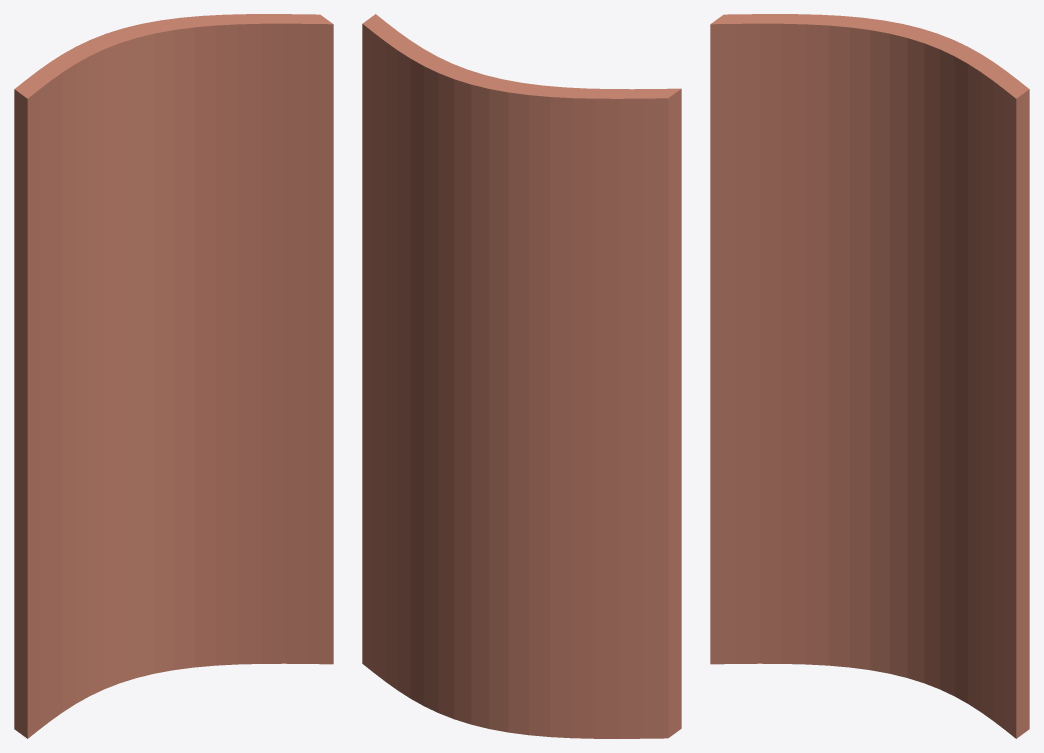
File: moench-nonne.glb
The picture shows the model from 3 angles, left to right: view 1: azimuth 30°, elevation 25°; view 2: azimuth 150°, elevation 25°; view 3: azimuth 330°, elevation 25°; orthographic projection.
Parts seen in each view (by area): view 1: world; view 2: world; view 3: world.
Part boxes in pixels (x1=…): world: x1=14, y1=14, x2=333, y2=738; world: x1=362, y1=14, x2=681, y2=738; world: x1=710, y1=14, x2=1029, y2=738.
Size of the model in its own units: 0.2 by 0.4 by 0.0548.
